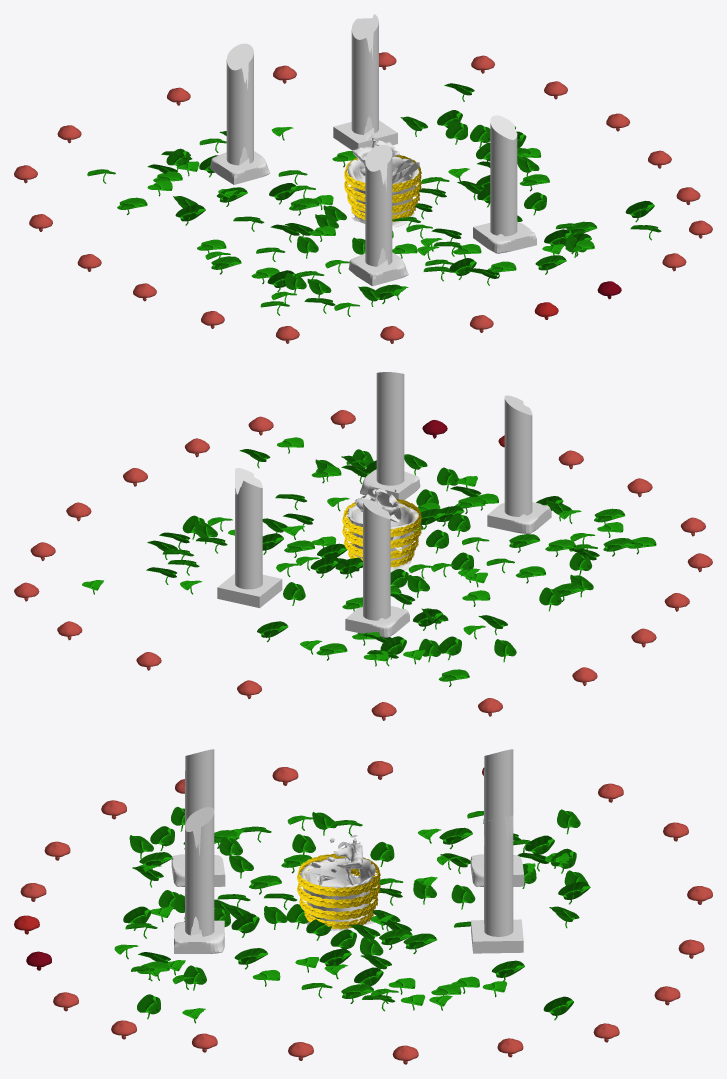
Rendered from Decanter.fbx.
The picture shows the model from 3 angles, top to bottom: view 1: azimuth 30°, elevation 25°; view 2: azimuth 150°, elevation 25°; view 3: azimuth 270°, elevation 25°; orthographic projection. The views are drawn at different scales.
Visible parts, largest first — view 1: Cylinder.016, Cylinder.017, Cylinder.015, Cylinder.010, thing, Leaf.110; view 2: Cylinder.017, Cylinder.010, Cylinder.015, Cylinder.016, thing, Leaf.110; view 3: Cylinder.016, Cylinder.010, Cylinder.015, Cylinder.017, thing, Leaf.110, Leaf.005, sink, Leaf.006.
Part boxes in pixels (bbox=[...]): Cylinder.016: bbox=[473, 115, 536, 253]; Cylinder.017: bbox=[348, 145, 408, 286]; Cylinder.015: bbox=[210, 43, 269, 184]; Cylinder.010: bbox=[333, 14, 397, 150]; thing: bbox=[347, 156, 418, 227]; Leaf.110: bbox=[344, 155, 421, 191]; Cylinder.017: bbox=[487, 395, 551, 534]; Cylinder.010: bbox=[217, 468, 282, 608]; Cylinder.015: bbox=[345, 499, 409, 637]; Cylinder.016: bbox=[360, 372, 420, 500]; thing: bbox=[347, 502, 418, 572]; Leaf.110: bbox=[342, 498, 421, 537]; Cylinder.016: bbox=[174, 807, 224, 953]; Cylinder.010: bbox=[471, 815, 523, 953]; Cylinder.015: bbox=[470, 749, 524, 886]; Cylinder.017: bbox=[171, 749, 225, 886]; thing: bbox=[299, 857, 375, 931]; Leaf.110: bbox=[297, 853, 380, 896]; Leaf.005: bbox=[297, 869, 380, 908]; sink: bbox=[311, 838, 364, 884]; Leaf.006: bbox=[299, 888, 378, 919].
Size of what is drawn, in the model's own units: 2303 by 522 by 2301.
